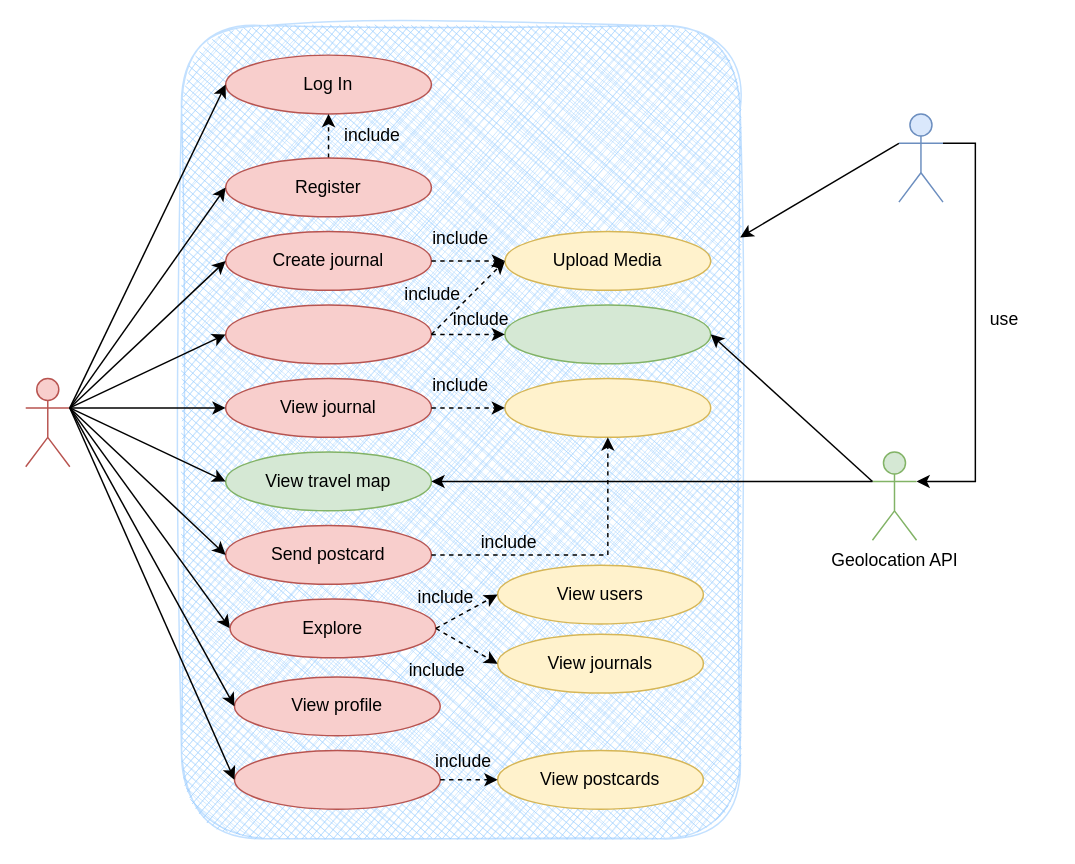
This 1075x864 diagram has some shape labels left out. Here are the shapes that lost their labels. From the top down, the box of each, then its label:
(897, 112, 943, 202): System
(224, 304, 431, 364): Add entry
(503, 304, 711, 364): Pin location on map
(24, 377, 70, 467): User
(503, 377, 711, 437): View entries
(233, 749, 440, 809): View notifications
